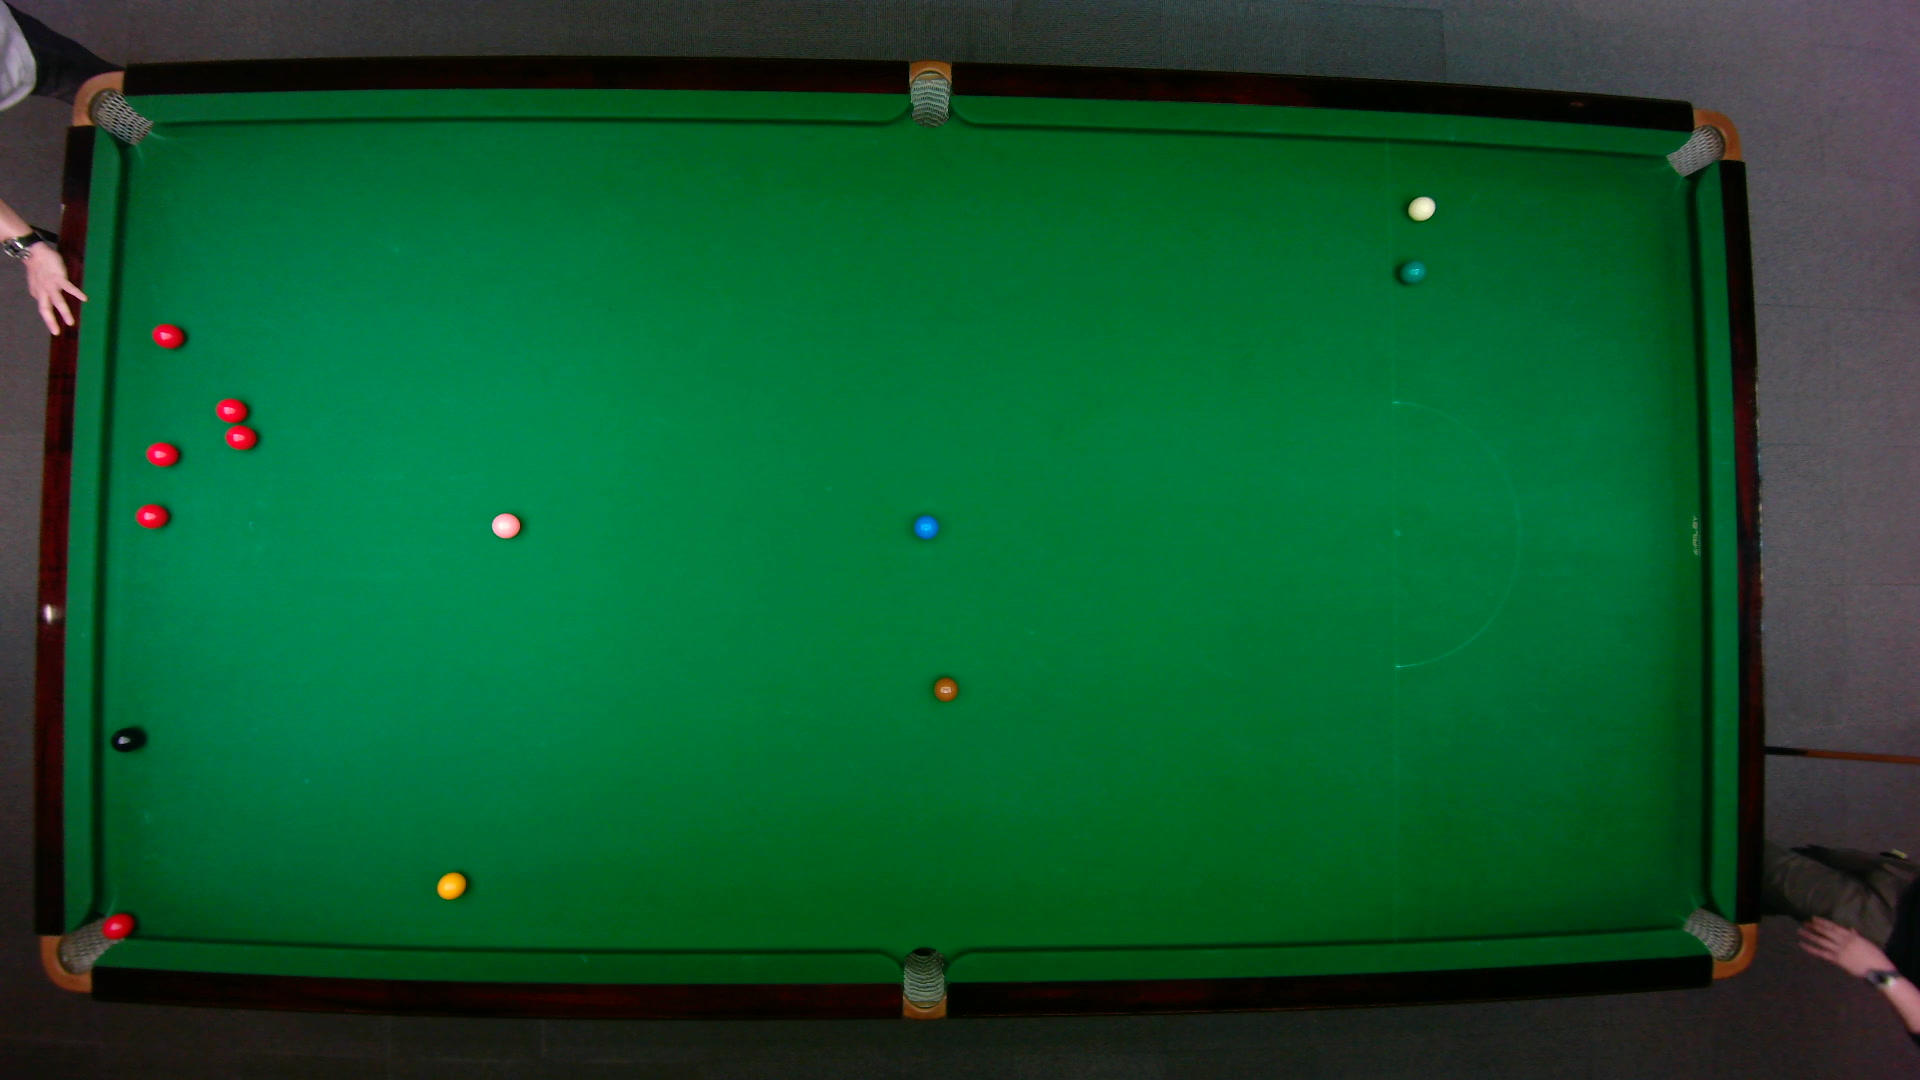bag: (38, 914, 124, 993), (70, 71, 156, 146), (1680, 905, 1760, 981), (1663, 108, 1745, 179), (902, 945, 945, 1022), (909, 59, 952, 131)
black: (109, 725, 146, 756)
blue: (913, 514, 942, 541)
brown: (932, 676, 961, 703)
green: (1396, 258, 1429, 287)
pink: (491, 512, 522, 541)
red: (99, 910, 138, 942), (222, 423, 261, 454), (142, 440, 182, 469), (214, 396, 251, 426), (150, 322, 187, 351), (135, 502, 167, 529)
white: (1404, 194, 1437, 224)
yellow: (435, 870, 469, 902)
zone: (1390, 400, 1520, 669)
